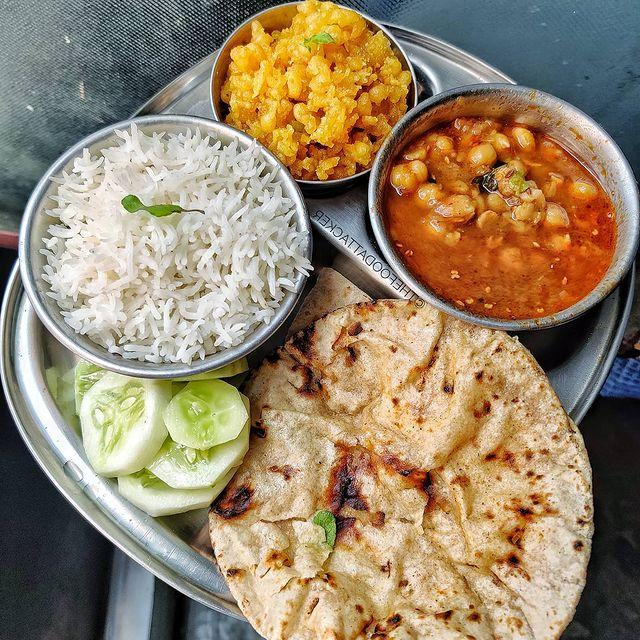Chole: (388, 93, 580, 256)
